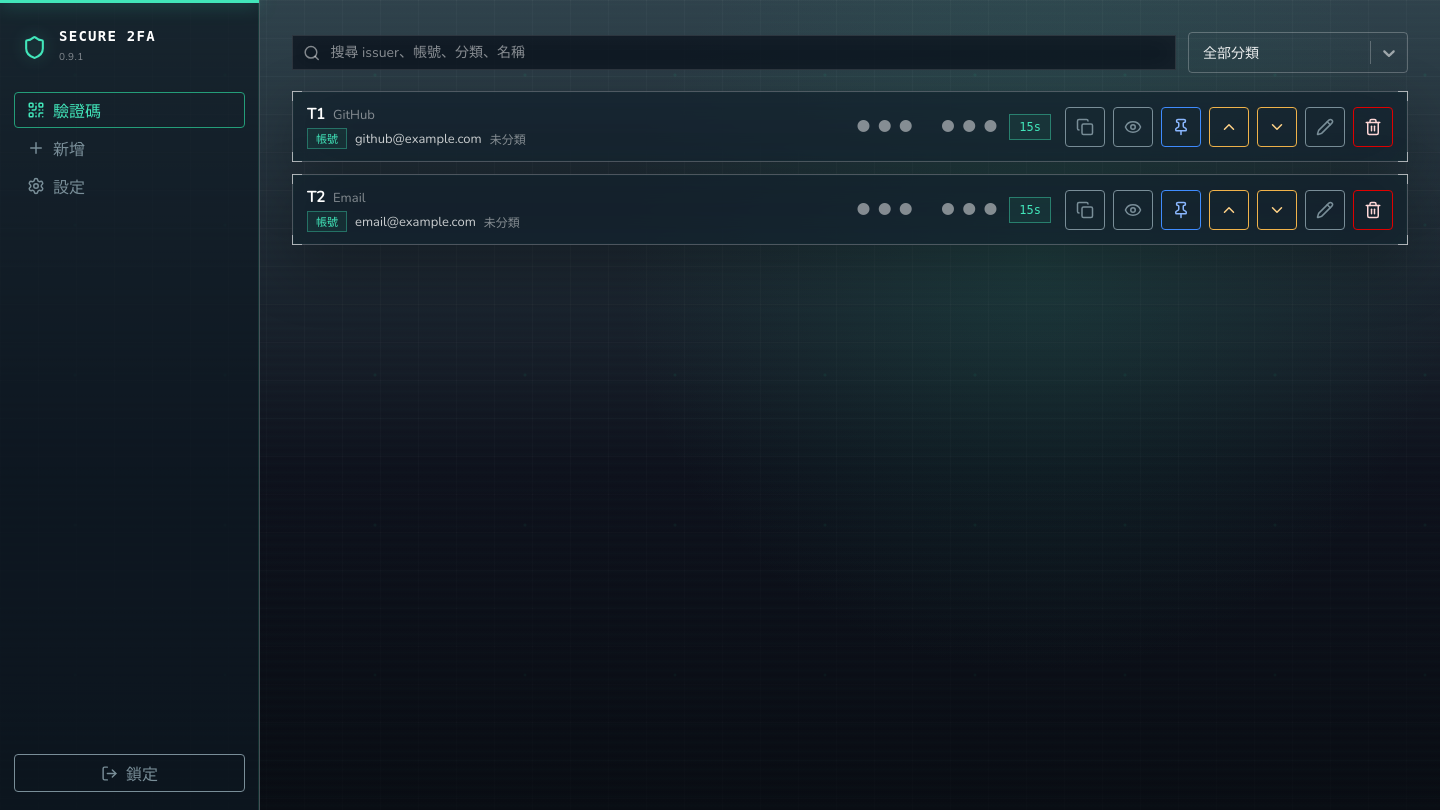
Test: App flows › filters accounts by search text
Check: the button "驗證碼" is shown, box [14, 92, 245, 128]
Type "T1" into the field with placeholder "搜尋 issuer、帳號、分類、名稱" at (748, 52), box [330, 36, 1165, 69]
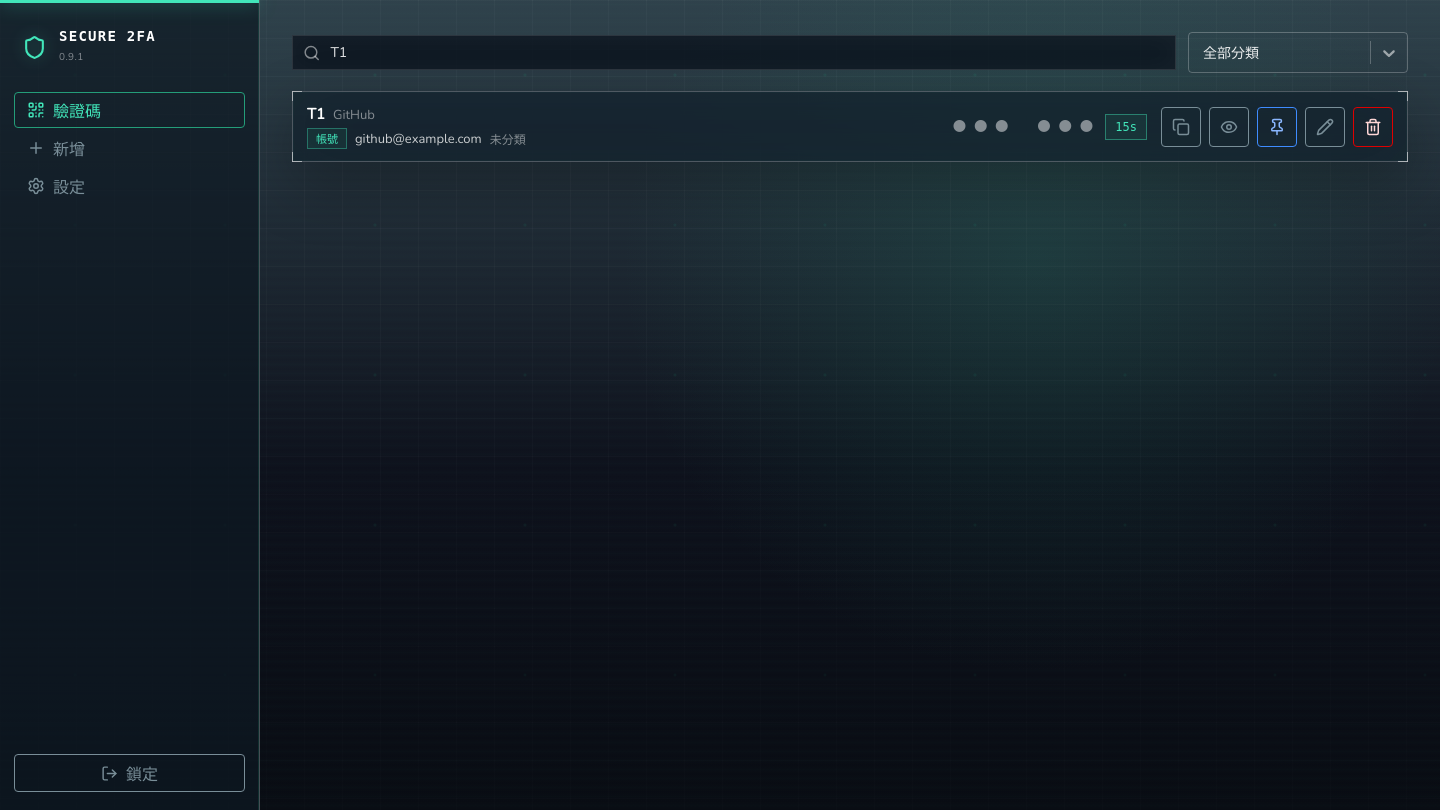
Check: the text "T1" is shown, box [307, 104, 325, 124]
Check: the text "T2" is gone
